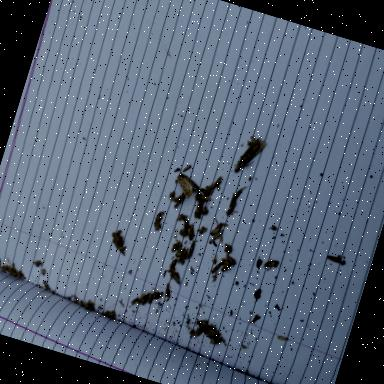pbw: (185, 222, 197, 240), (225, 198, 237, 216), (210, 258, 222, 275), (226, 190, 236, 207), (186, 239, 196, 255), (224, 252, 237, 264), (140, 290, 150, 305), (233, 186, 243, 200), (171, 272, 182, 284), (212, 227, 222, 240), (182, 162, 192, 174), (162, 282, 170, 296), (219, 256, 230, 266), (196, 317, 208, 326), (168, 256, 177, 268), (198, 186, 210, 195), (220, 262, 230, 272), (200, 192, 210, 202), (146, 292, 154, 304), (210, 225, 218, 236), (167, 194, 177, 201), (219, 221, 228, 227)
